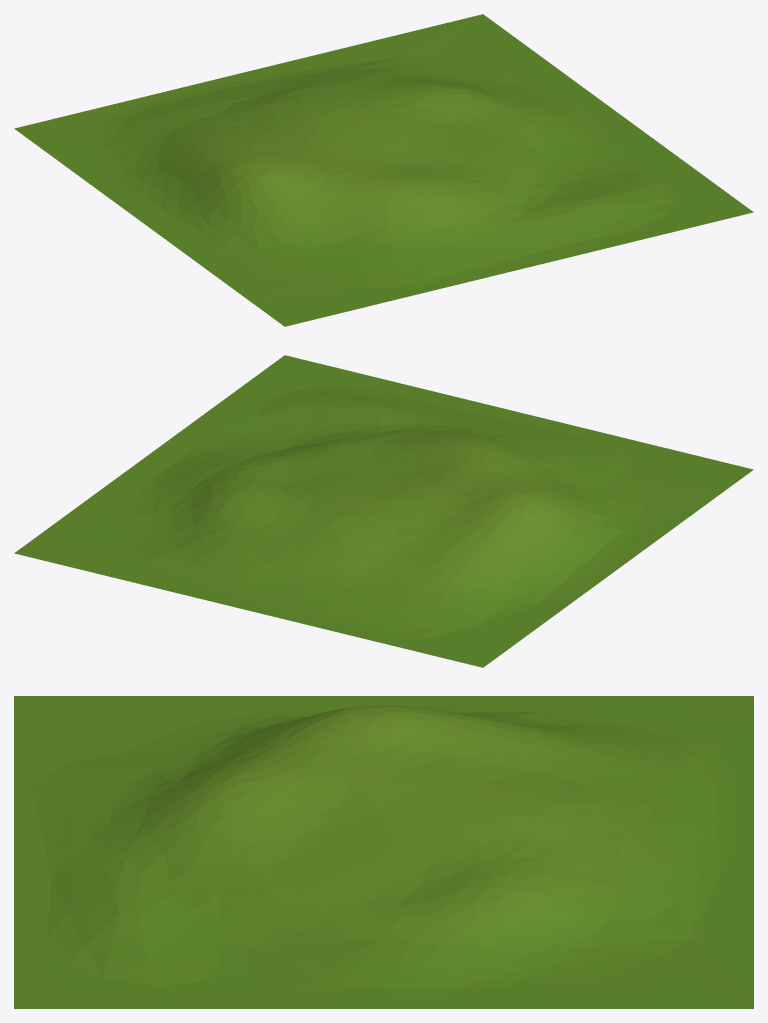
The model's file is Terrain_04.fbx.
3 views of the same model, one above another, from view 1: azimuth 30°, elevation 25°; view 2: azimuth 150°, elevation 25°; view 3: azimuth 270°, elevation 25° (orthographic). The views are drawn at different scales.
Visible parts, largest first — view 1: Terrain_04; view 2: Terrain_04; view 3: Terrain_04.
Part boxes in pixels (x1,y1,x2,y2): Terrain_04: (14, 14, 753, 326); Terrain_04: (14, 355, 753, 667); Terrain_04: (14, 696, 753, 1008).
Bounding box in the file's own units: 12800 × 1045 × 12800.
